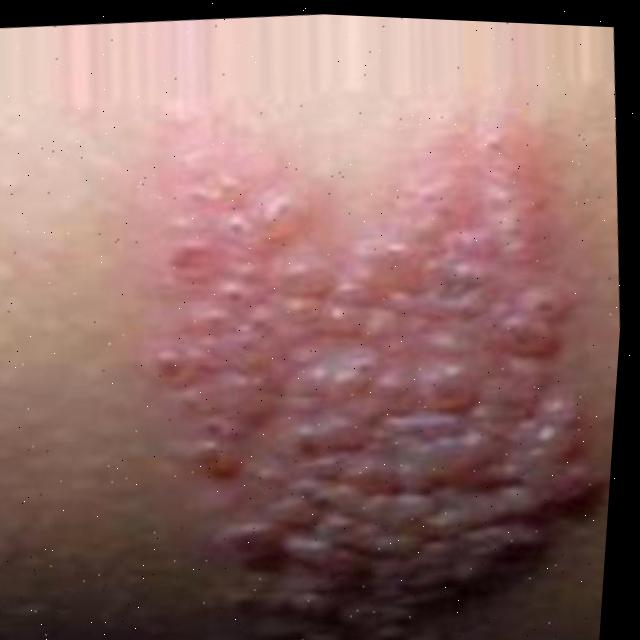Shingles: (134, 105, 610, 640)
